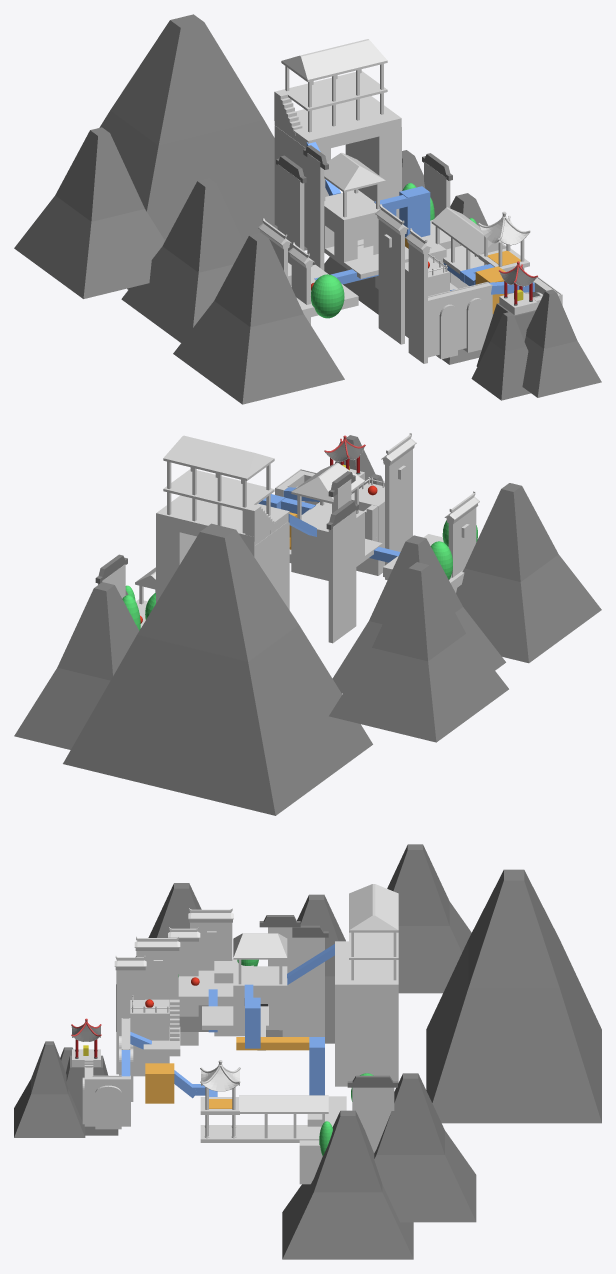
3 views of the same model, one above another, from view 1: azimuth 30°, elevation 25°; view 2: azimuth 150°, elevation 25°; view 3: azimuth 270°, elevation 25° (orthographic). The views are drawn at different scales.
Visible parts, largest first — view 1: 立方体.071, 立方体.065, 立方体.064, 立方体.063, 立方体.029, 立方体.069, 立方体.012, 立方体.028, 立方体.030, 立方体.067, 立方体, 立方体.001 (+25 smaller); view 2: 立方体.071, 立方体.064, 立方体.065, 立方体.050, 立方体.063, 立方体.069, 立方体.037, 立方体.067, 立方体.012, 立方体.030, 立方体.066, 立方体.022 (+6 smaller); view 3: 立方体.071, 立方体.051, 立方体.050, 立方体.064, 立方体.069, 立方体.029, 立方体.037, 立方体.063, 立方体.012, 立方体.067, 立方体.065, 立方体.005 (+30 smaller).
Boxes of the visible parts, x1,y1,x2,y2 form: 立方体.071: (99,14,307,289); 立方体.065: (173,232,344,404); 立方体.064: (14,127,164,298); 立方体.063: (121,178,244,342); 立方体.029: (522,289,601,397); 立方体.069: (274,125,401,247); 立方体.012: (274,96,401,150); 立方体.028: (471,312,530,400); 立方体.030: (378,219,404,344); 立方体.067: (281,39,387,81); 立方体: (428,282,492,357); 立方体.001: (408,244,427,363); 立方体.071: (63,523,372,815); 立方体.064: (329,562,508,742); 立方体.065: (456,483,601,663); 立方体.050: (14,582,139,749); 立方体.063: (332,535,505,693); 立方体.069: (156,521,289,609); 立方体.037: (328,510,356,643); 立方体.067: (163,435,274,480); 立方体.012: (156,495,288,550); 立方体.030: (385,449,412,580); 立方体.066: (163,469,274,511); 立方体.022: (291,516,364,577); 立方体.071: (426,869,601,1123); 立方体.051: (282,1110,413,1259); 立方体.050: (374,1073,476,1222); 立方体.064: (387,844,471,993); 立方体.069: (335,993,398,1086); 立方体.029: (14,1041,85,1137); 立方体.037: (282,937,324,1036); 立方体.063: (260,894,345,1043); 立方体.012: (335,945,398,992); 立方体.067: (349,884,398,932); 立方体.065: (116,883,208,1031); 立方体.005: (130,999,169,1076).
Size of the model in its own units: 10802 by 7104 by 13434.
